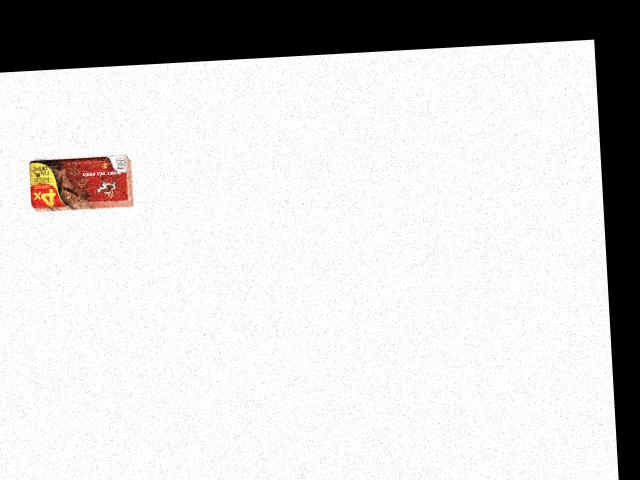chocolate: (27, 152, 131, 212)
